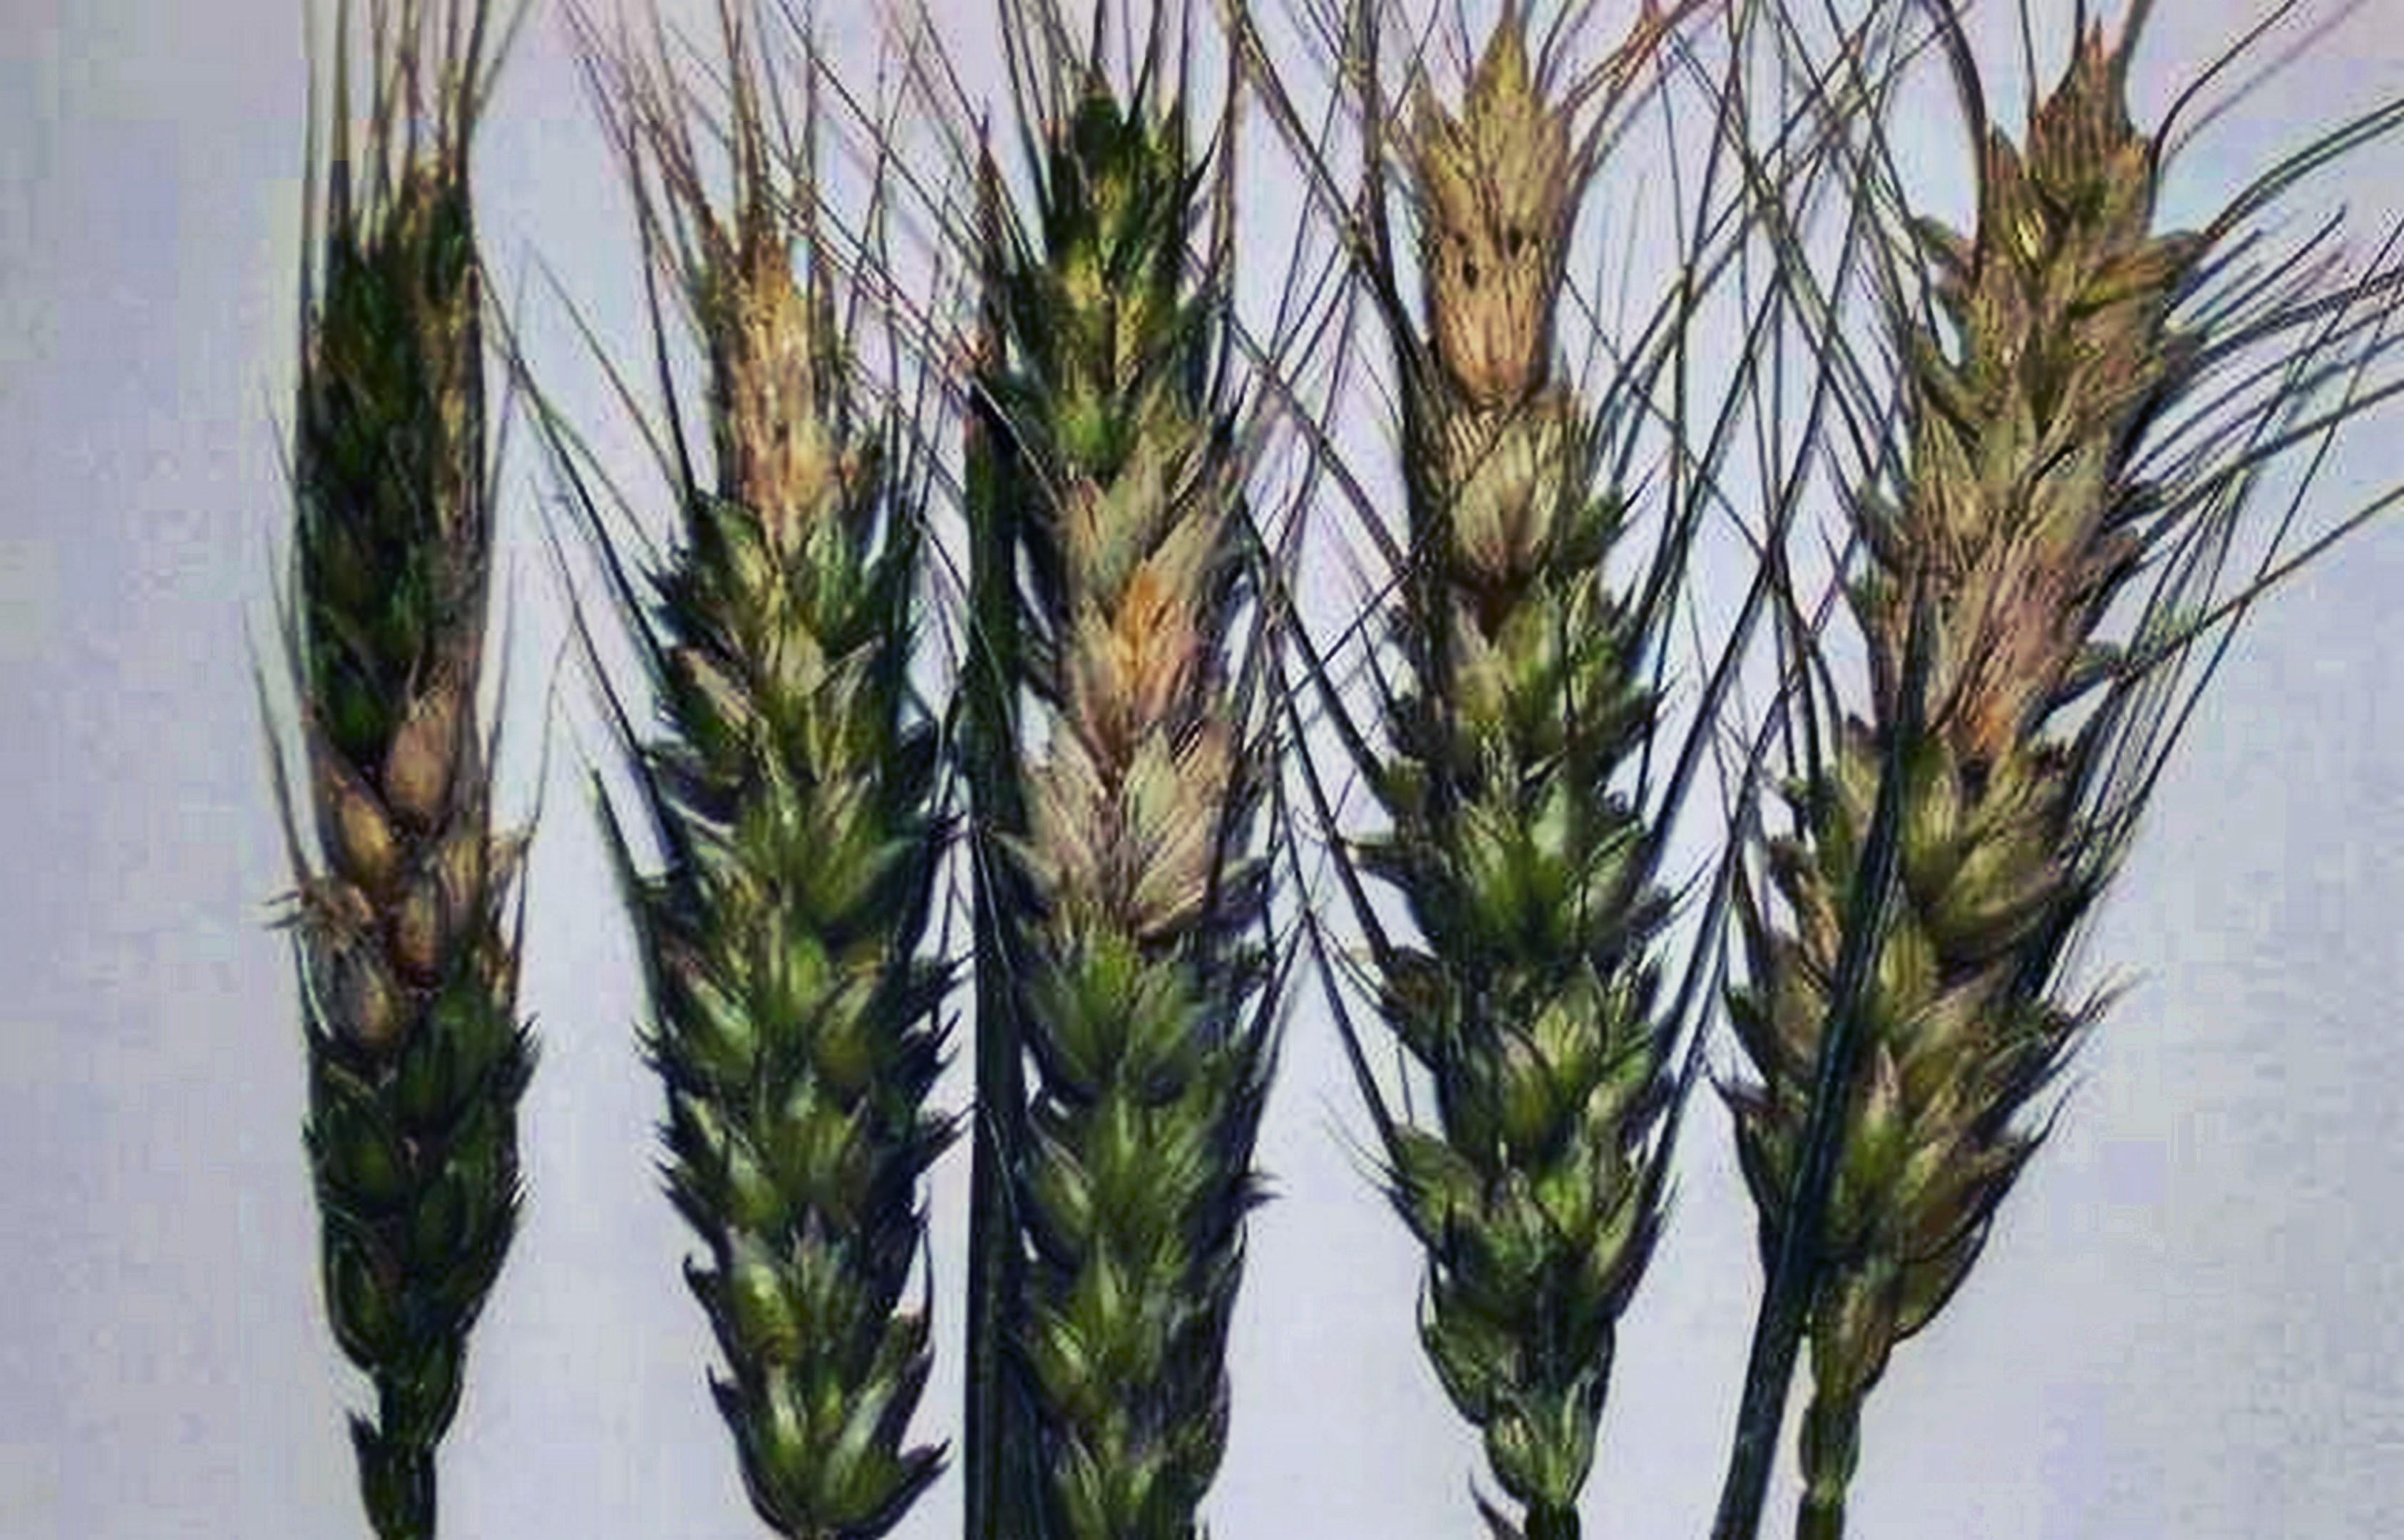Wheat scab: (969, 84, 1269, 1529)
